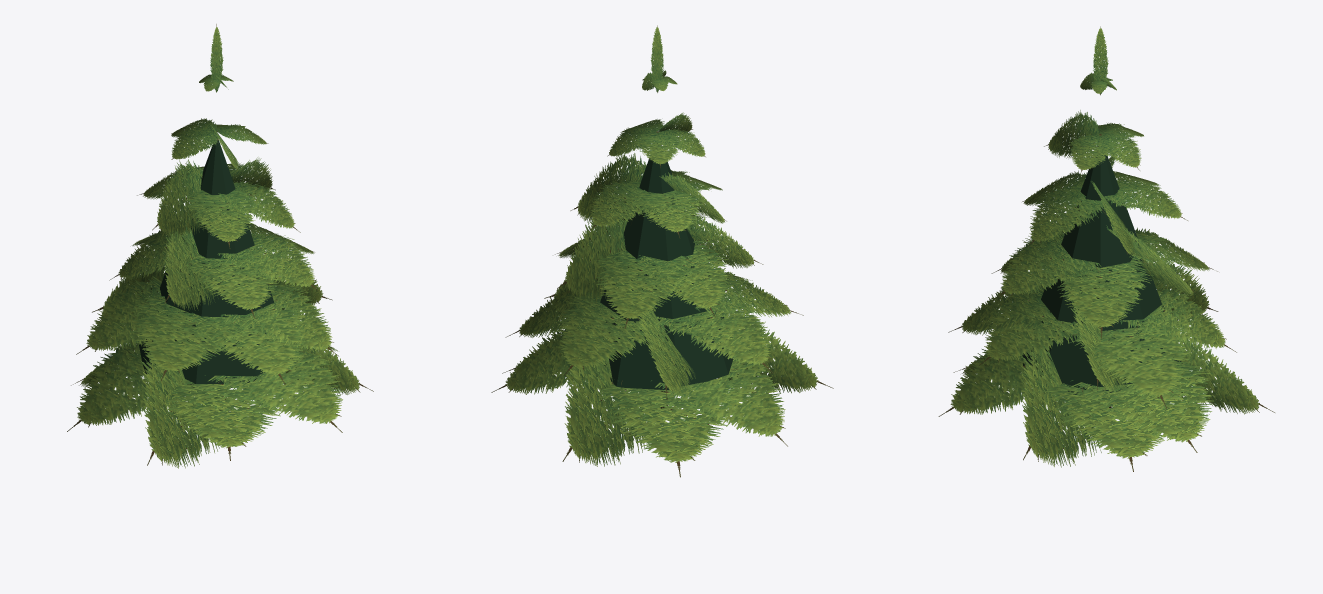
File: pine-c.glb
The picture shows the model from 3 angles, left to right: view 1: azimuth 30°, elevation 25°; view 2: azimuth 150°, elevation 25°; view 3: azimuth 270°, elevation 25°; orthographic projection.
Visible parts, largest first — view 1: pine-c; view 2: pine-c; view 3: pine-c.
Boxes of the visible parts, <box> form: pine-c: <box>67,24,373,468</box>; pine-c: <box>491,25,833,477</box>; pine-c: <box>938,26,1274,471</box>.
Size of the model in its own units: 10.51 by 13.55 by 10.42.
3 materials, 1 textured.
